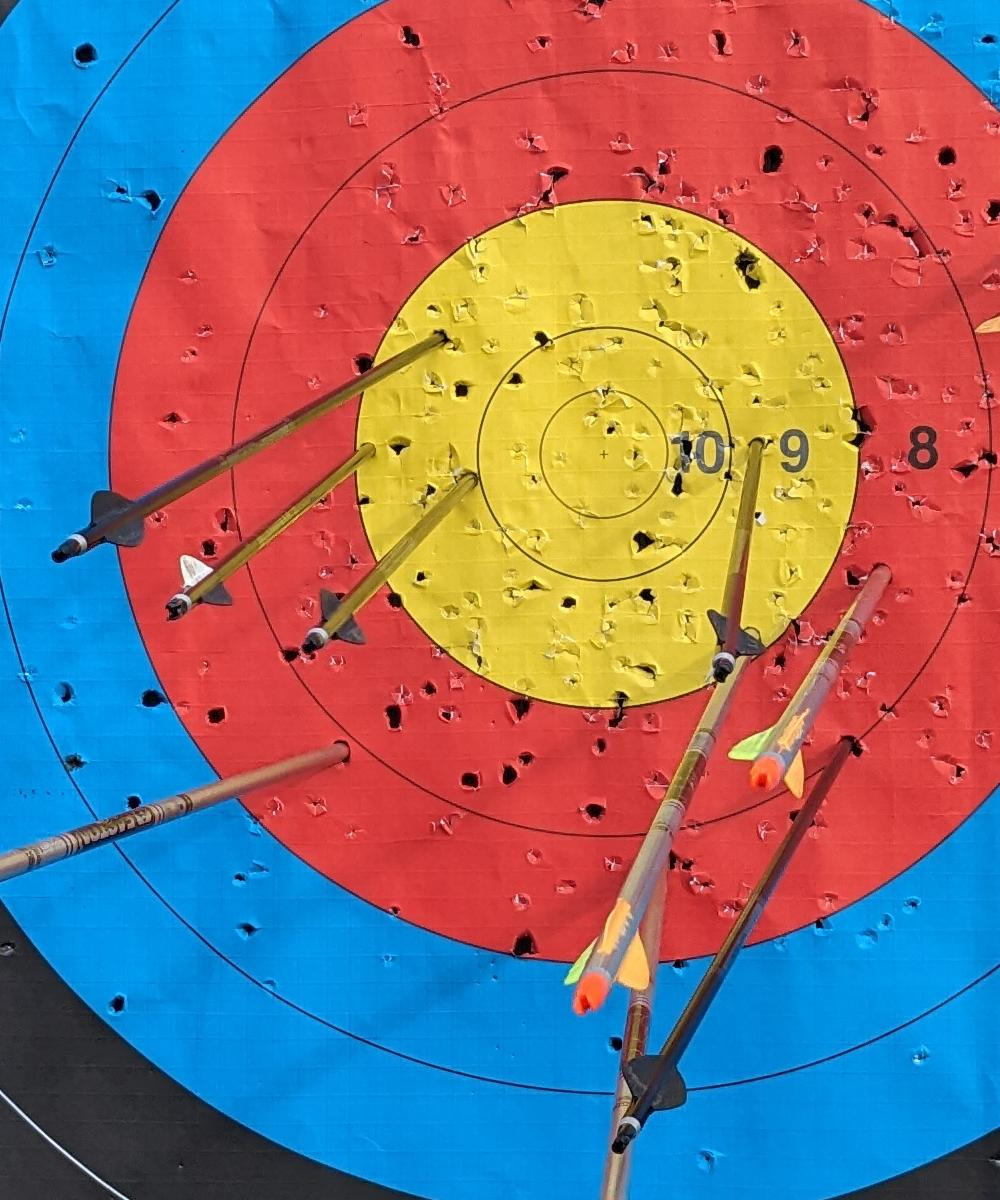10-Ring: (438, 290, 769, 621)
7-Ring: (112, 0, 1000, 965)
8-Ring: (234, 71, 990, 836)
9-Ring: (356, 201, 857, 708)
Arrow: (589, 714, 854, 1171), (32, 321, 467, 583), (555, 614, 790, 1035), (142, 422, 396, 642), (0, 734, 349, 881), (718, 538, 893, 809), (286, 442, 479, 678), (599, 851, 669, 1200), (705, 440, 766, 683)
